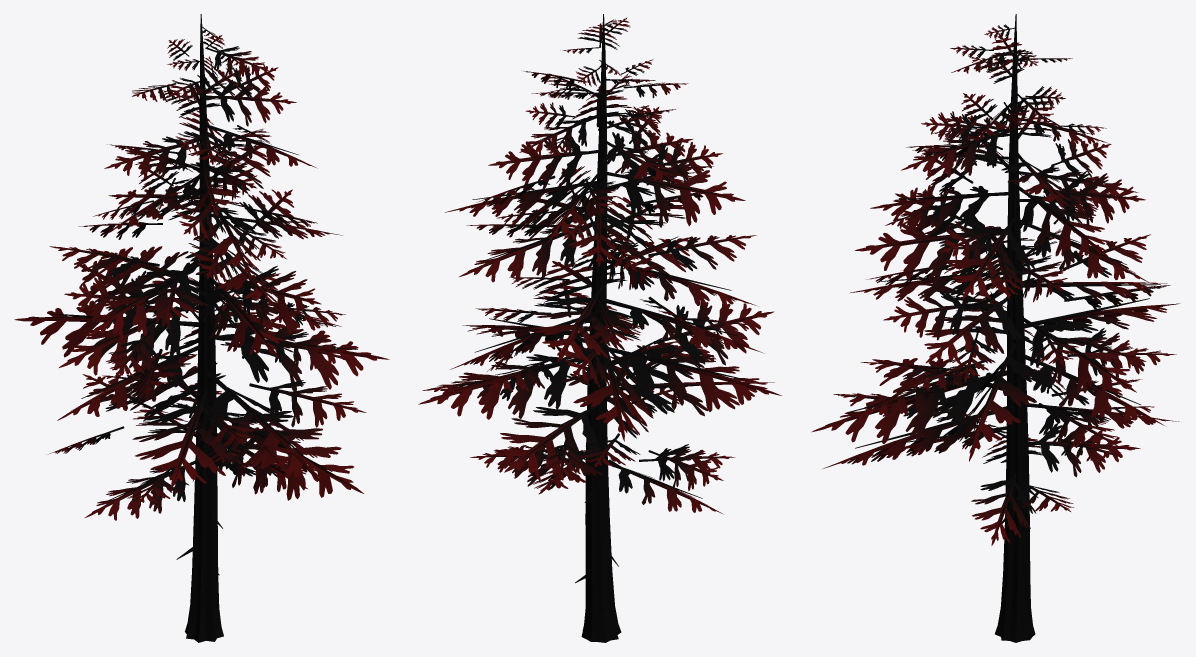
The model's file is SM_GN_Pine_A.fbx.
3 renders of one model, left to right at view 1: azimuth 30°, elevation 25°; view 2: azimuth 150°, elevation 25°; view 3: azimuth 270°, elevation 25°, orthographic.
Parts seen in each view (by area): view 1: SM_GN_Pine_A.001; view 2: SM_GN_Pine_A.001; view 3: SM_GN_Pine_A.001.
Part boxes in pixels (x1,y1,x2,y2): SM_GN_Pine_A.001: [14, 14, 389, 642]; SM_GN_Pine_A.001: [418, 14, 781, 642]; SM_GN_Pine_A.001: [811, 14, 1179, 642].
Size of the model in its own units: 3.31 by 3.26 by 6.
